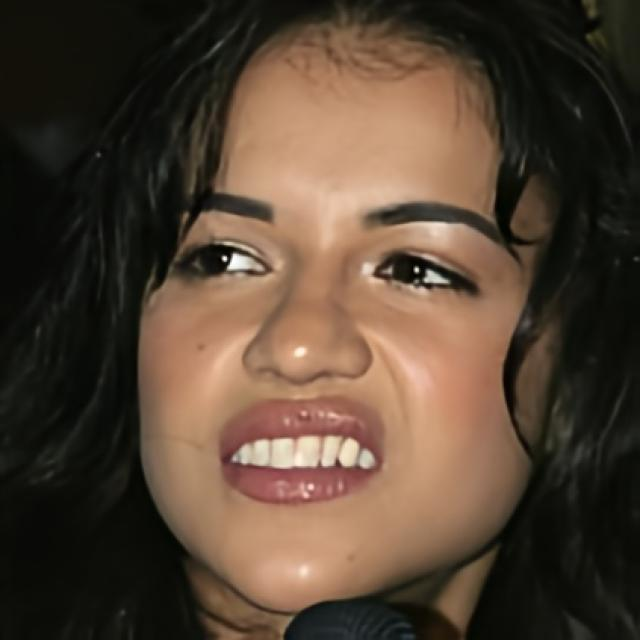disgust: (136, 3, 571, 616)
